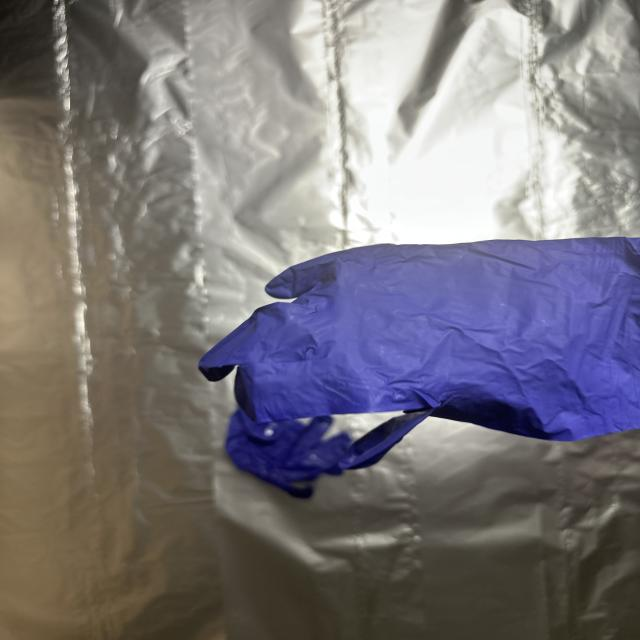glove_not_fitted: (202, 234, 640, 447)
